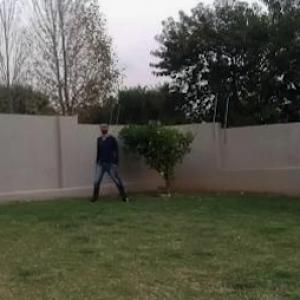follow: (98, 120, 118, 198)
